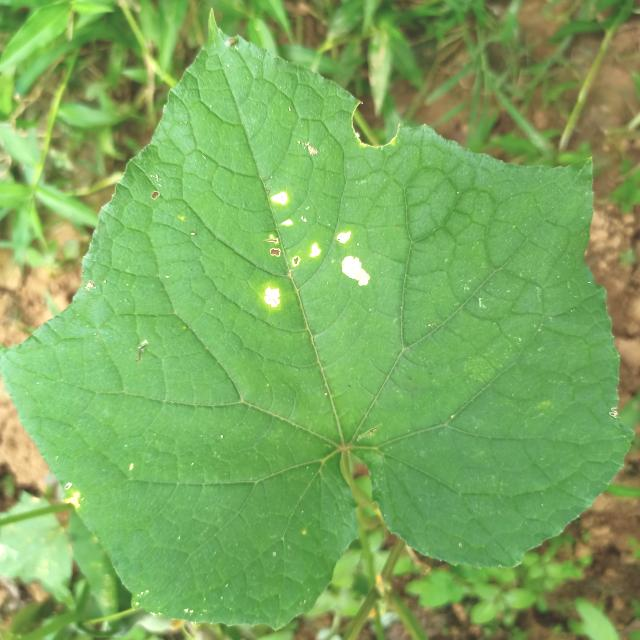disease_cucumber: (262, 191, 371, 306)
